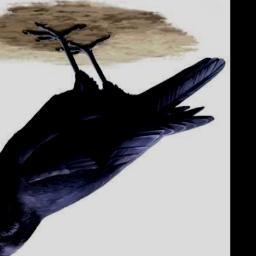Crow: (0, 18, 227, 256)
